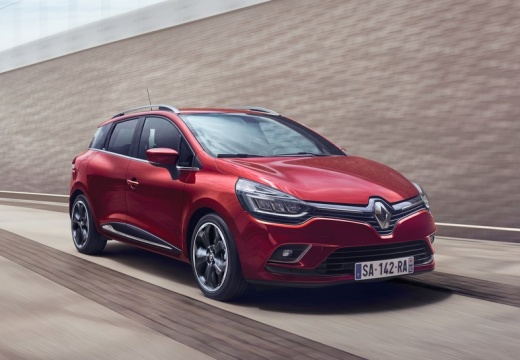tablica: (352, 261, 416, 279)
